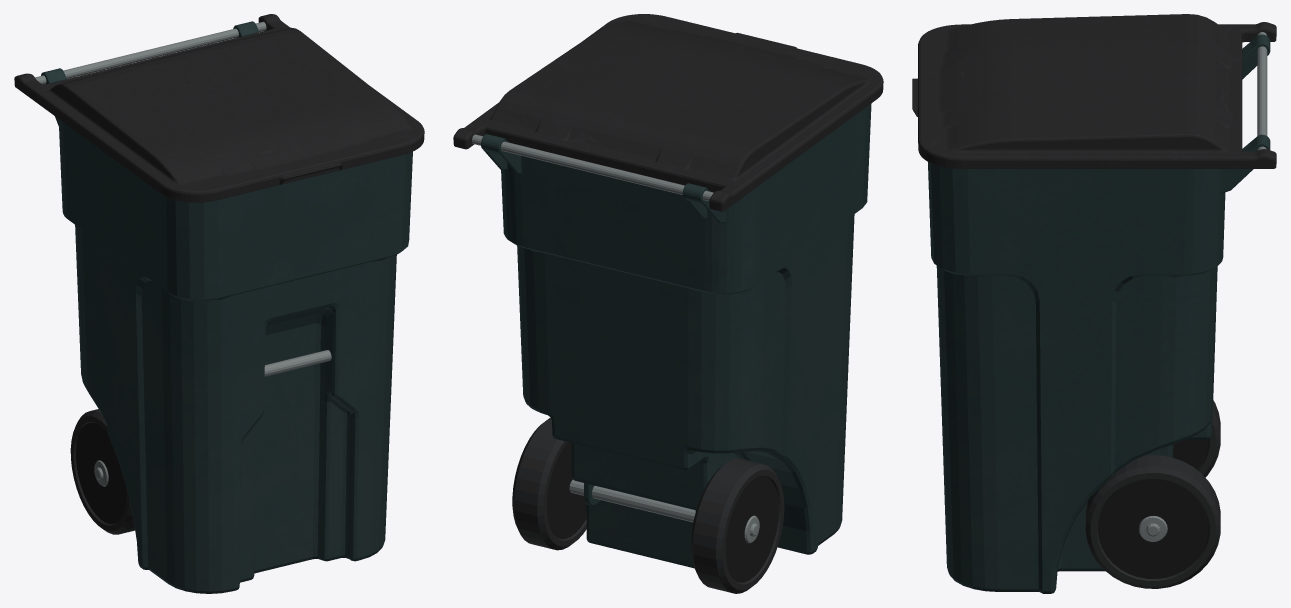
The model's file is contenedor_oscuro_residuos.glb.
3 renders of one model, left to right at view 1: azimuth 30°, elevation 25°; view 2: azimuth 150°, elevation 25°; view 3: azimuth 270°, elevation 25°, orthographic. The views are drawn at different scales.
Parts seen in each view (by area): view 1: can_garbage_base_realistic_lod0; view 2: can_garbage_base_realistic_lod0; view 3: can_garbage_base_realistic_lod0.
Part boxes in pixels (x1,y1,x2,y2): can_garbage_base_realistic_lod0: (14, 14, 424, 593); can_garbage_base_realistic_lod0: (453, 14, 883, 593); can_garbage_base_realistic_lod0: (912, 14, 1276, 593).
Bounding box in the file's own units: 0.7554 × 1.22 × 0.8648.
Materials: 1 (1 with a texture image).
